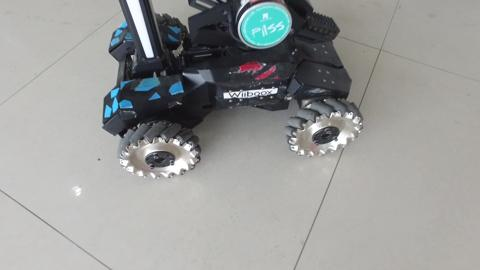chariot: (90, 7, 359, 167)
